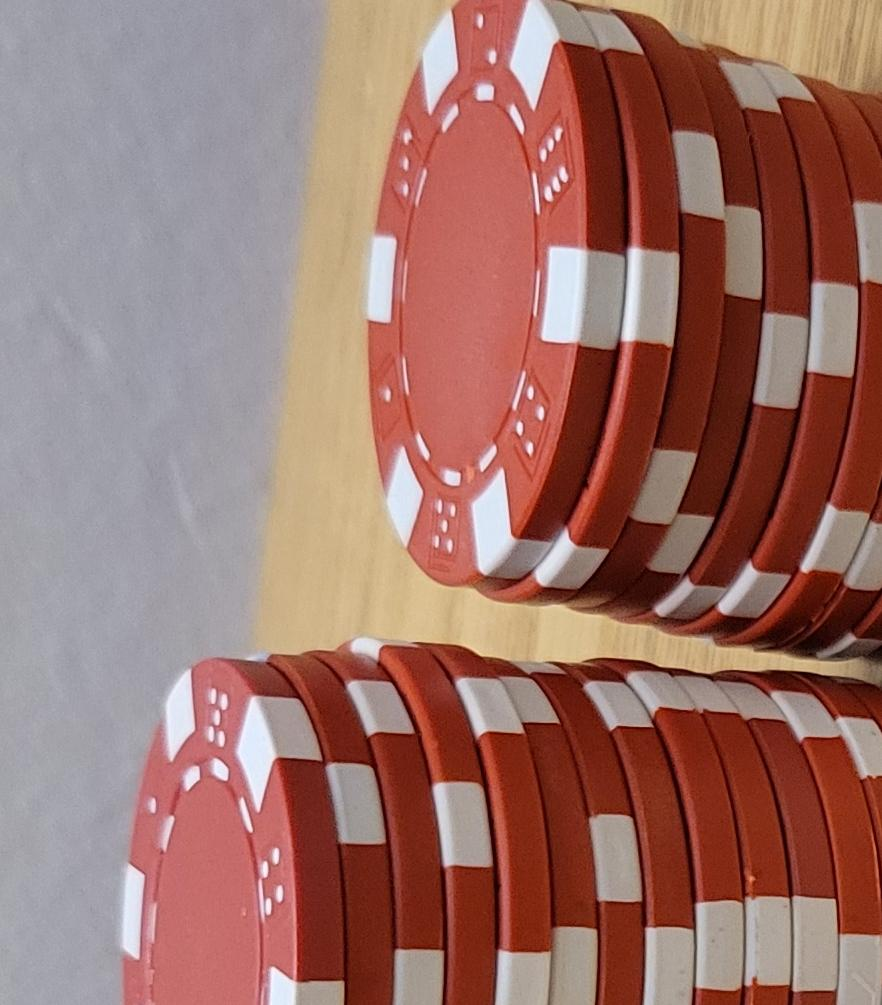Chip: (1, 154, 448, 1005)
